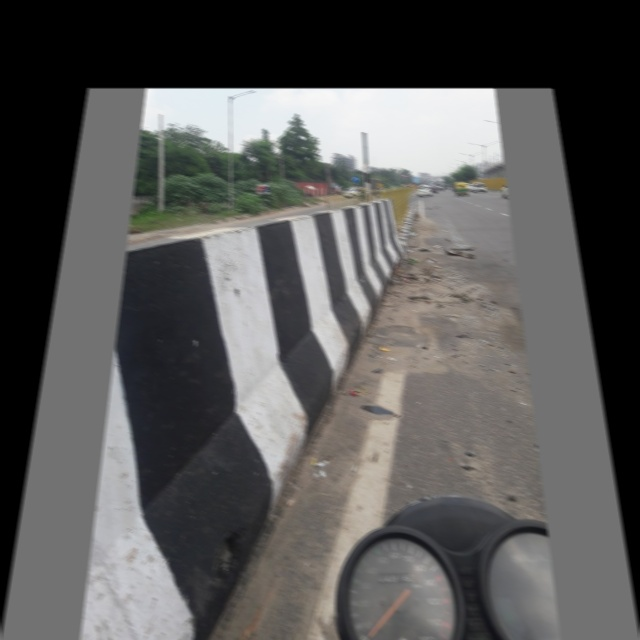Pass_Either_Side: (349, 173, 357, 180)
